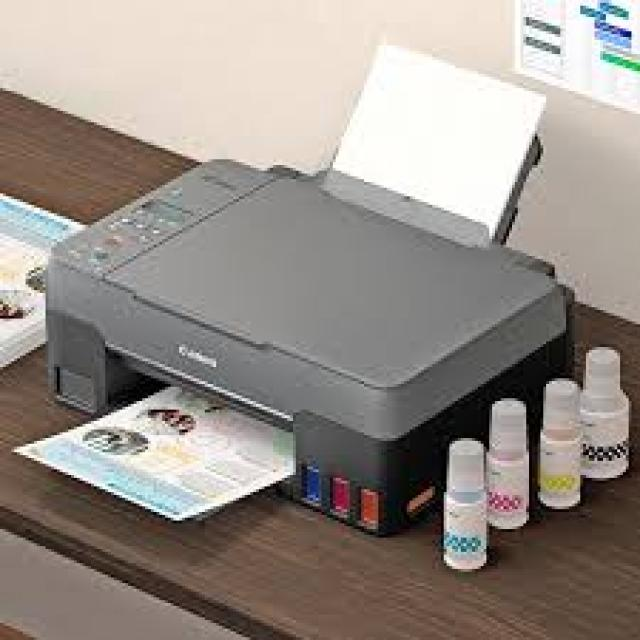printer: (42, 40, 574, 538)
